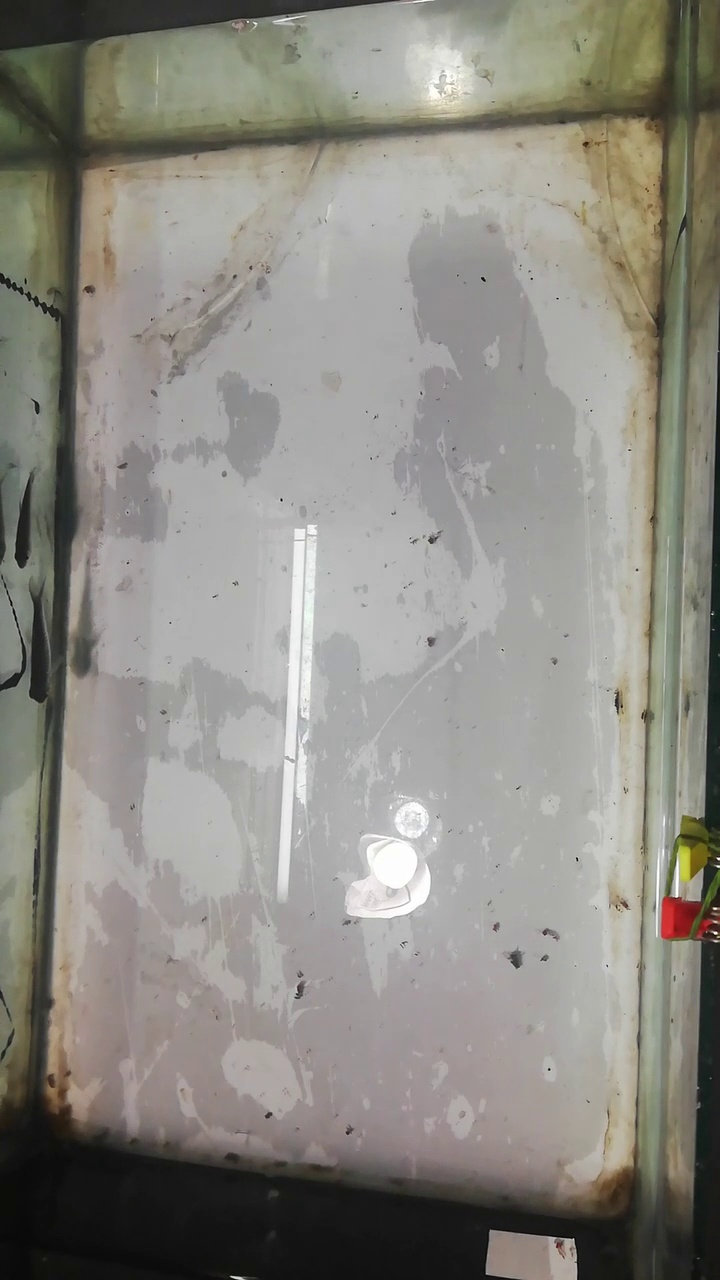fish1: (27, 593, 55, 706)
fish2: (13, 469, 38, 569)
